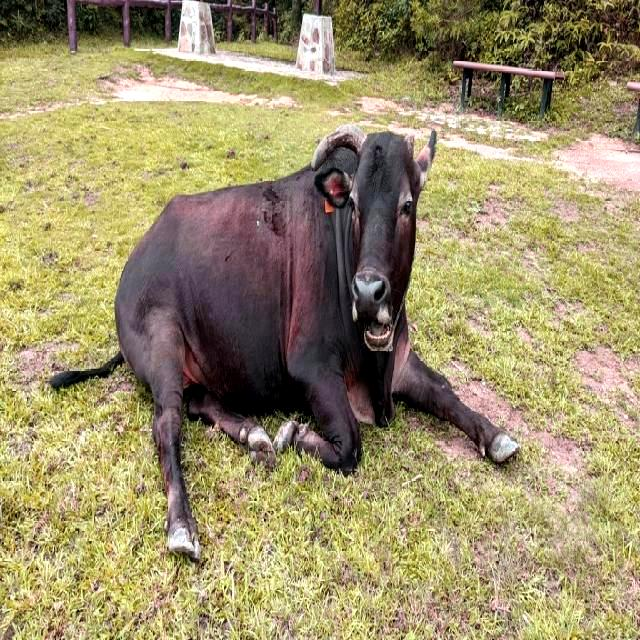COW: (50, 126, 518, 558)
